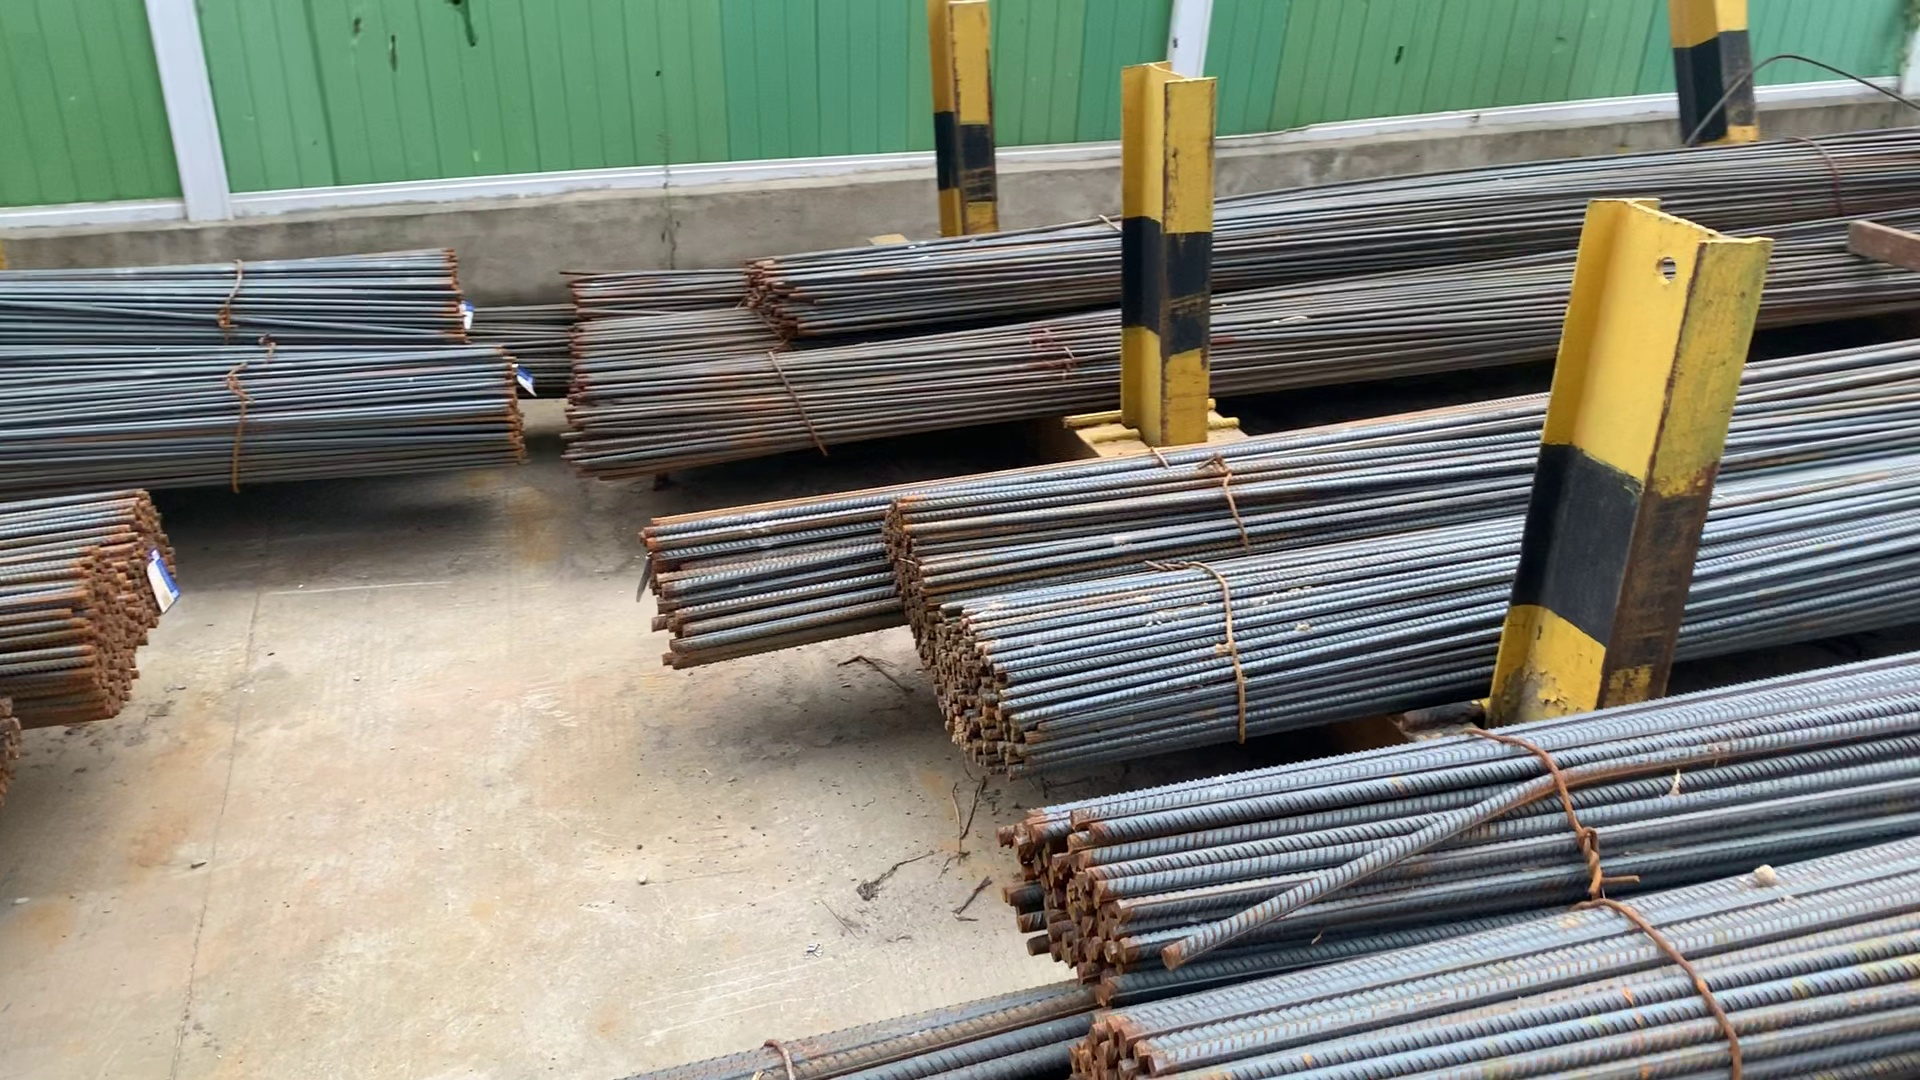rebar: (997, 811, 1143, 988), (939, 618, 1043, 775), (51, 553, 138, 712), (633, 506, 699, 676), (113, 496, 208, 611), (873, 506, 945, 655), (742, 257, 808, 342)
